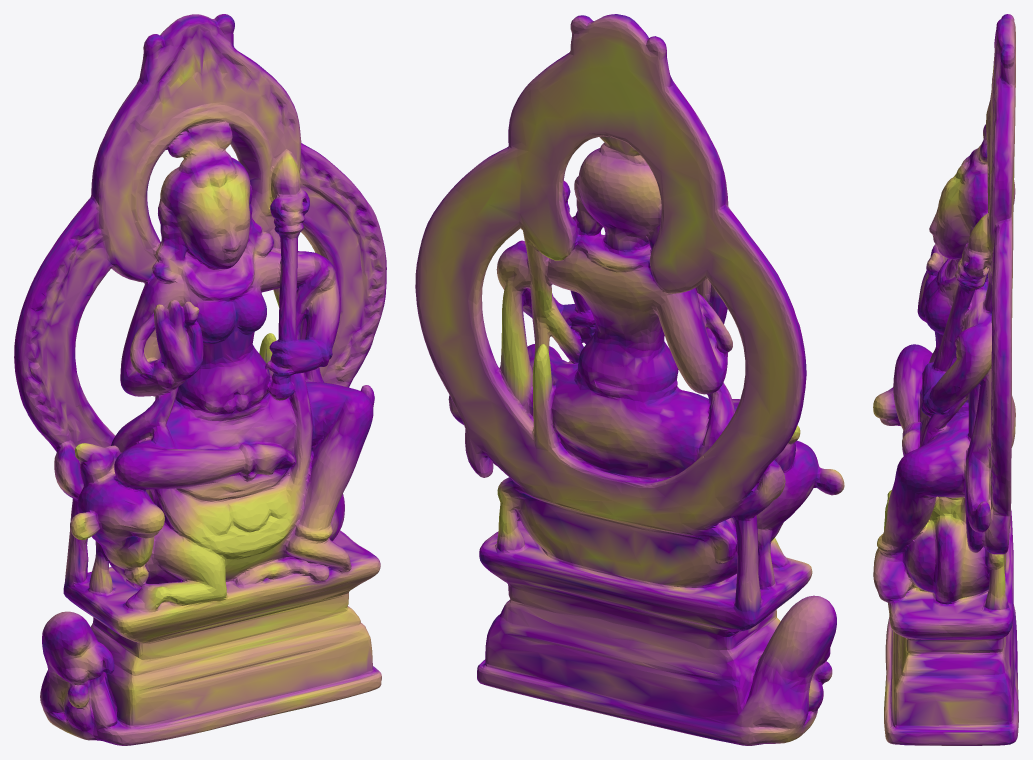
Rendered from iter_15.glb.
3 views of the same model, side by side, from view 1: azimuth 30°, elevation 25°; view 2: azimuth 150°, elevation 25°; view 3: azimuth 270°, elevation 25° (orthographic). The views are drawn at different scales.
Visible parts, largest first — view 1: textured_mesh; view 2: textured_mesh; view 3: textured_mesh.
Boxes of the visible parts, x1=… form: textured_mesh: x1=14, y1=14, x2=386, y2=745; textured_mesh: x1=415, y1=14, x2=844, y2=745; textured_mesh: x1=873, y1=14, x2=1018, y2=745.
Size of the model in its own units: 1.16 by 1.99 by 0.3981.
